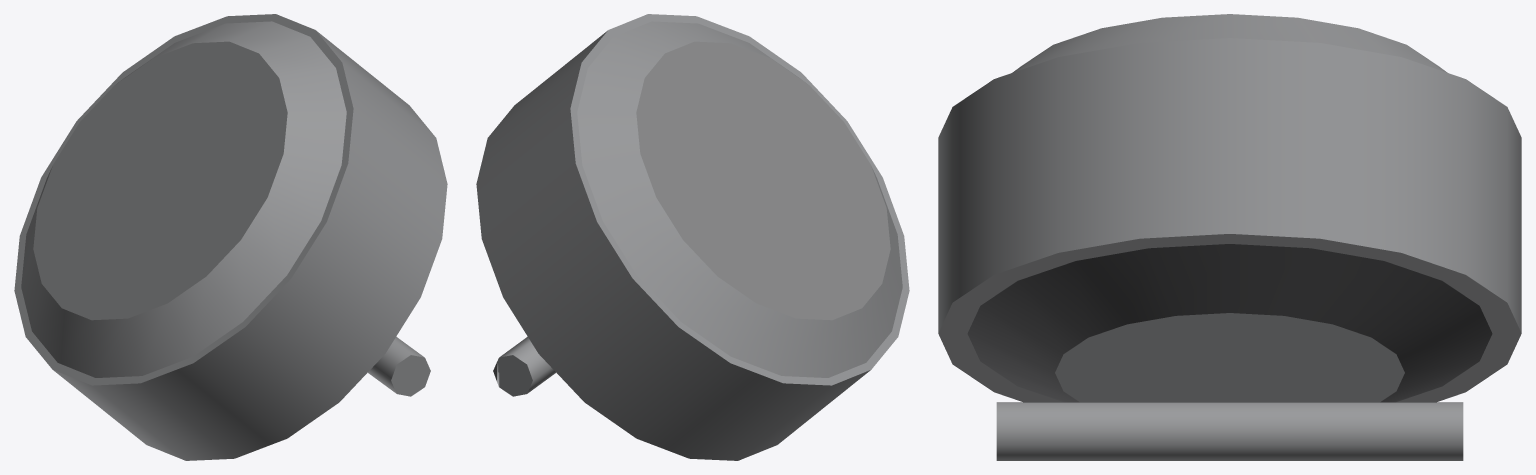
The picture shows the model from 3 angles, left to right: view 1: azimuth 30°, elevation 25°; view 2: azimuth 150°, elevation 25°; view 3: azimuth 270°, elevation 25°; orthographic projection. The views are drawn at different scales.
Size of the model in its own units: 0.5374 by 0.5374 by 0.56.
